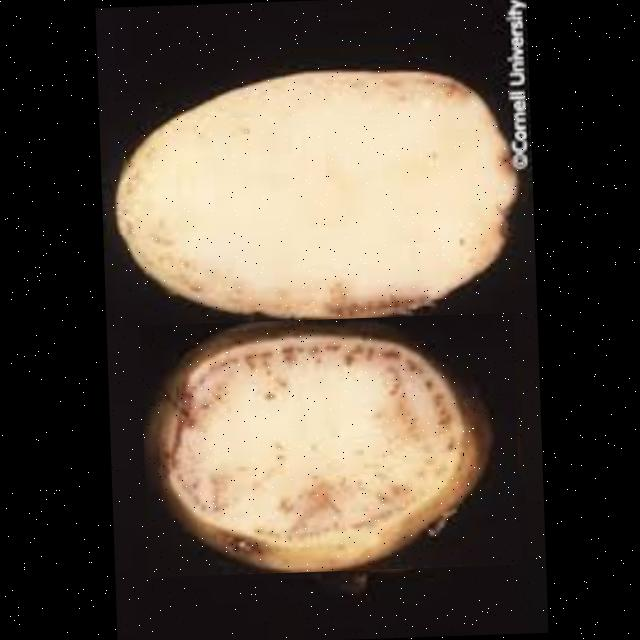Damaged potato: (112, 64, 520, 324), (138, 312, 521, 577)
